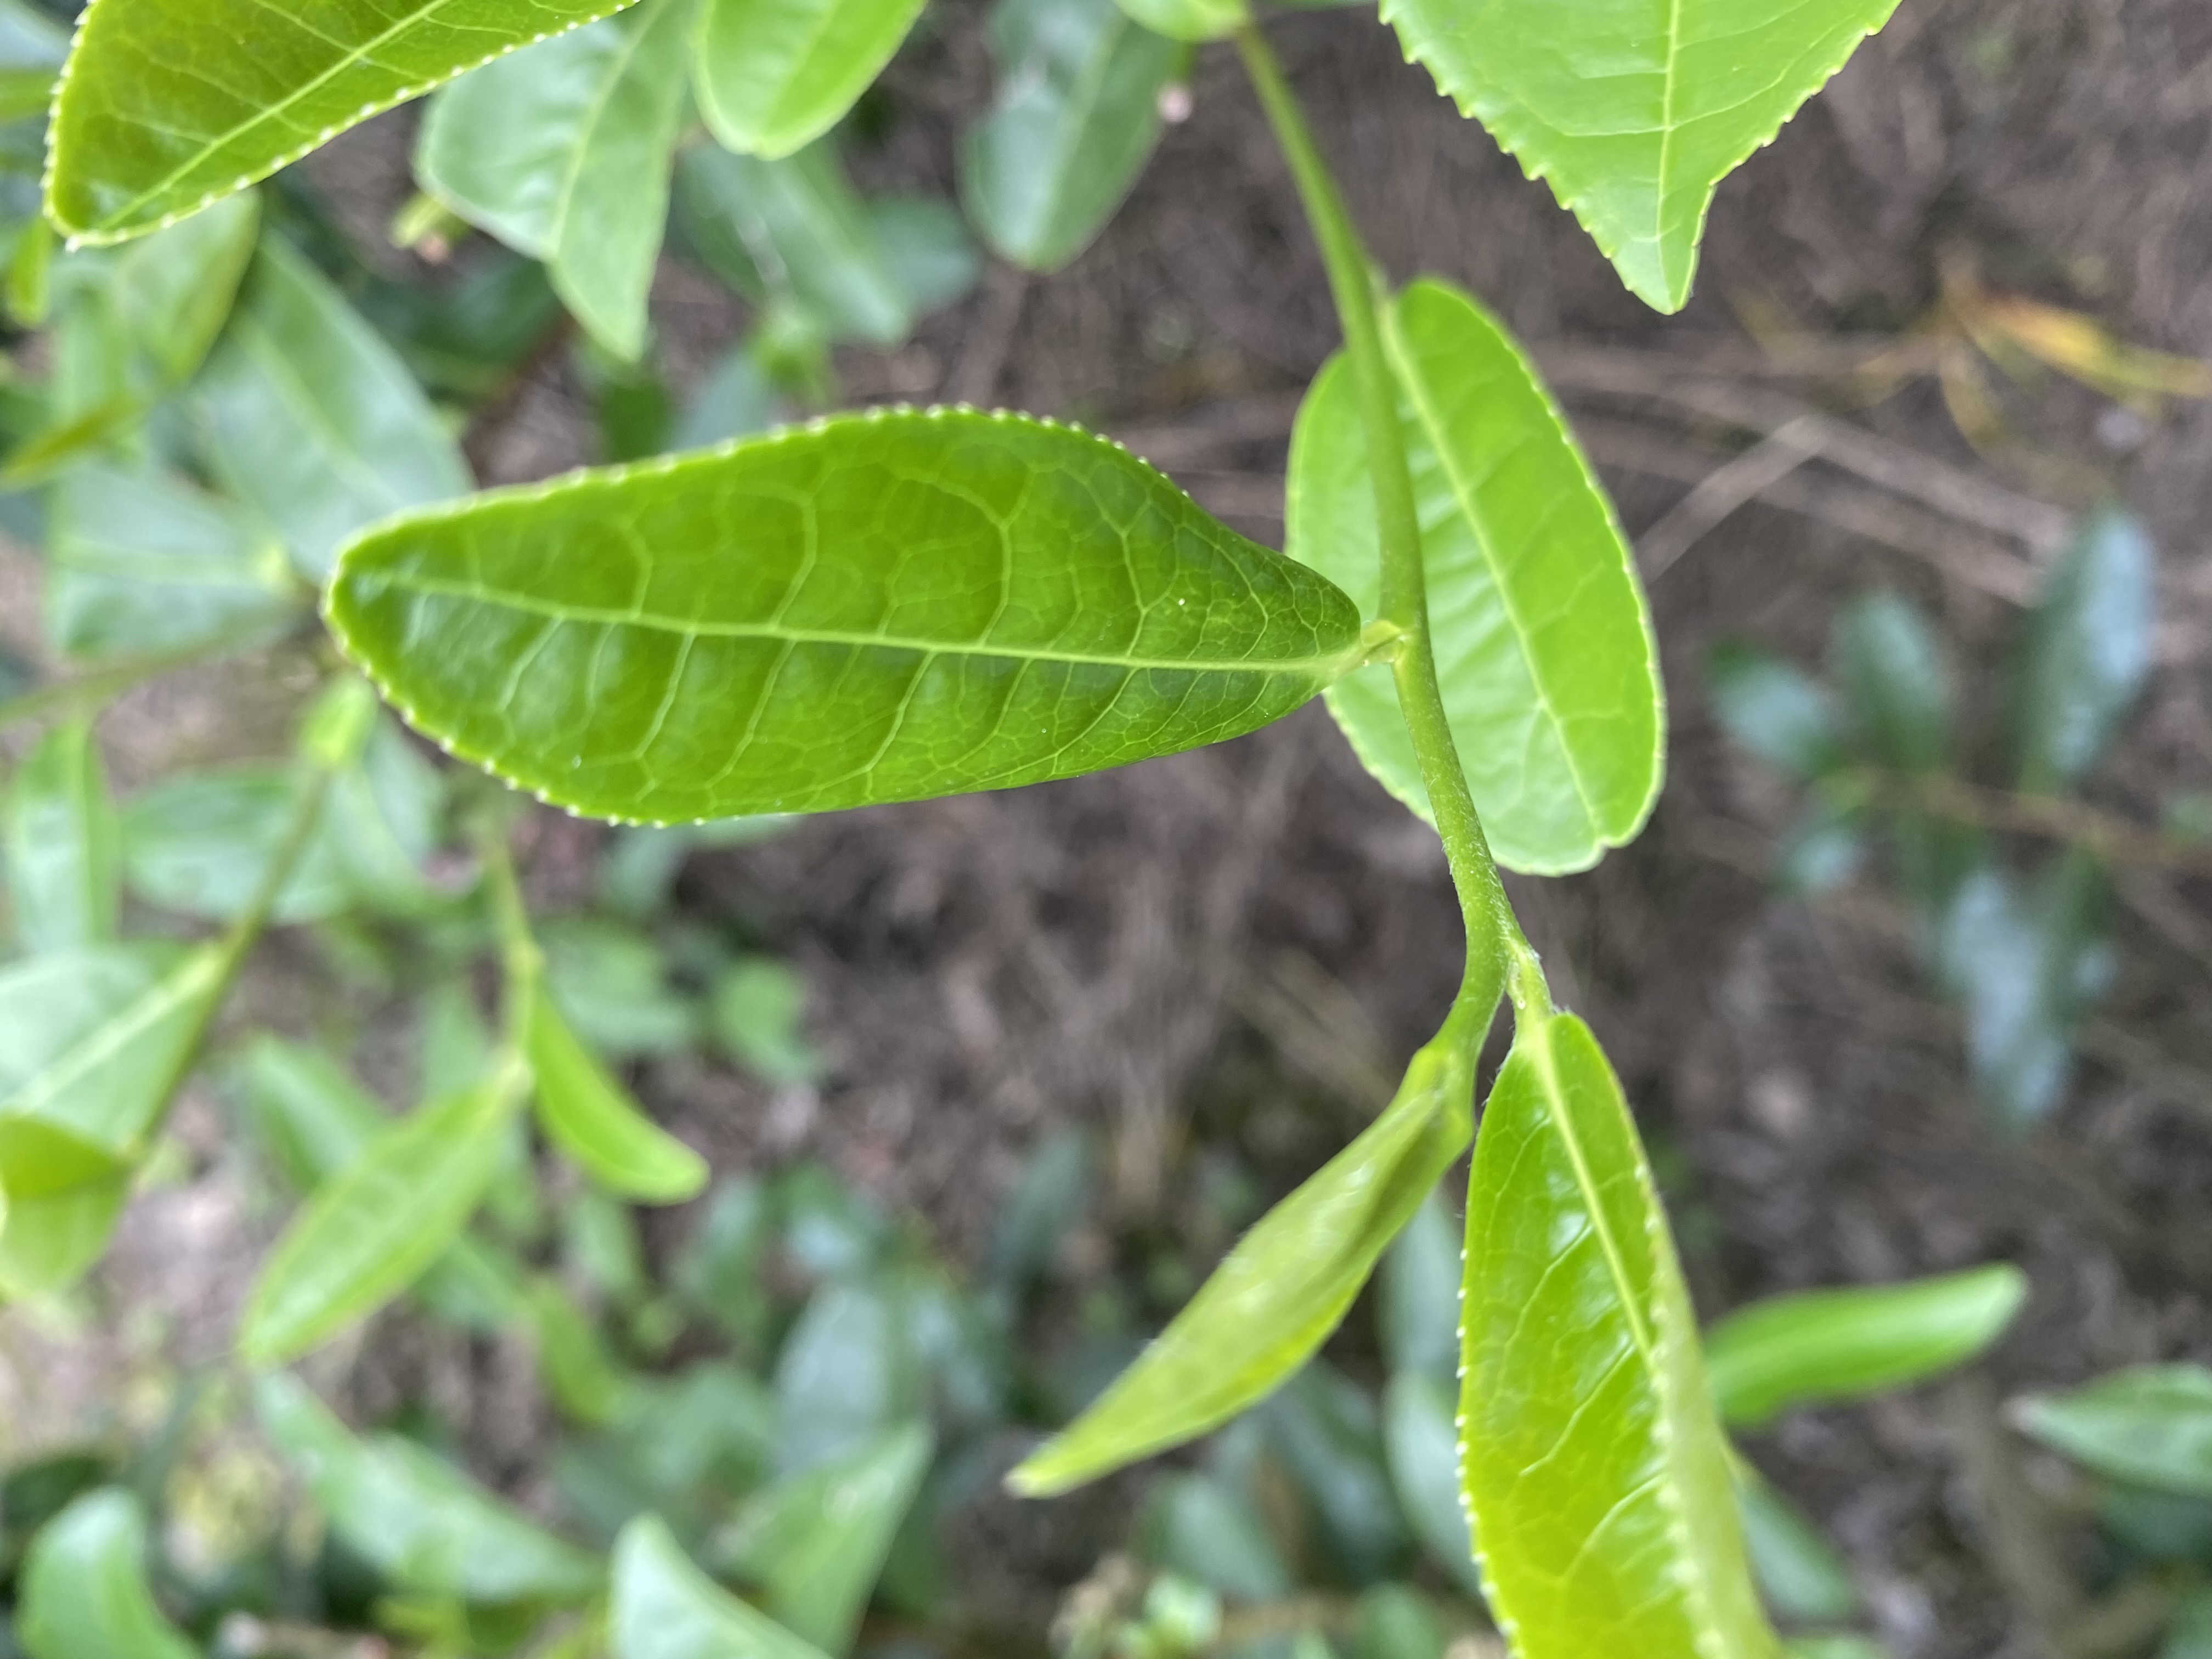healthy: (327, 401, 1364, 833), (1285, 277, 1672, 884), (993, 1051, 1480, 1504), (1453, 1011, 1792, 1656), (1372, 5, 1902, 319), (31, 2, 643, 251)
